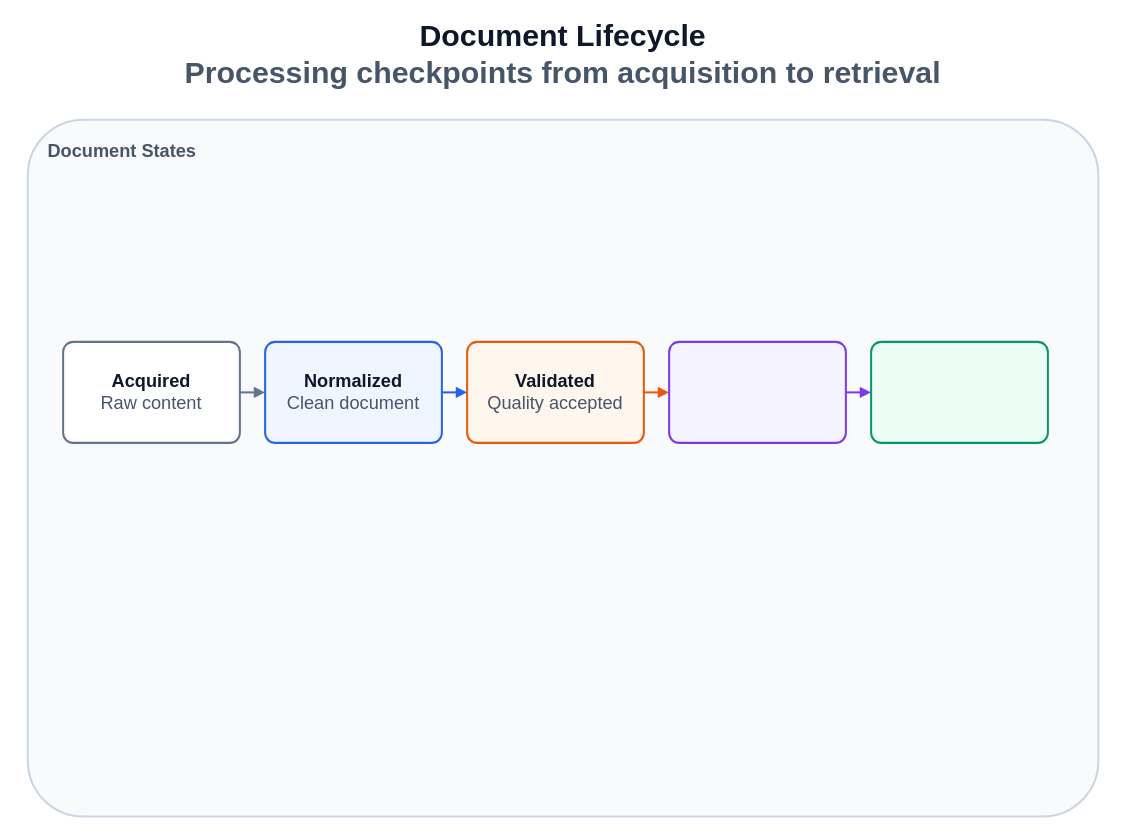
This 1125x834 diagram has some shape labels left out. Each missing label, with the centre of its shape:
Enriched Entities and relations: point 757,391
Indexed Ready for retrieval: point 959,391
